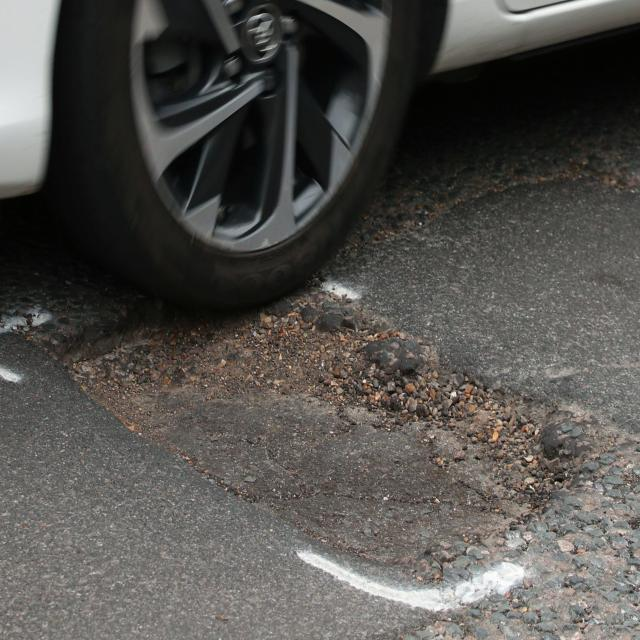Pothole: (56, 295, 580, 563)
